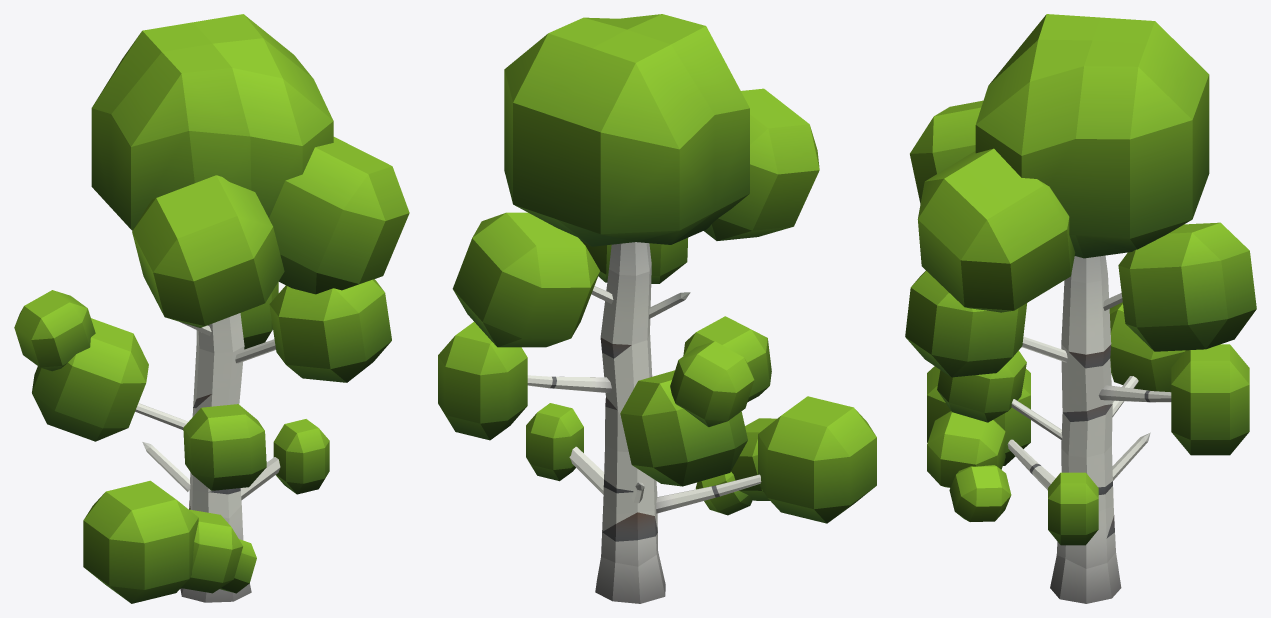
File: SilverBirchTreeSmall.fbx
The picture shows the model from 3 angles, left to right: view 1: azimuth 30°, elevation 25°; view 2: azimuth 150°, elevation 25°; view 3: azimuth 270°, elevation 25°; orthographic projection. The views are drawn at different scales.
Parts seen in each view (by area): view 1: SilverBirchTreeSmall; view 2: SilverBirchTreeSmall; view 3: SilverBirchTreeSmall.
Part boxes in pixels (bbox=[...]): SilverBirchTreeSmall: bbox=[14, 14, 409, 603]; SilverBirchTreeSmall: bbox=[438, 14, 876, 603]; SilverBirchTreeSmall: bbox=[905, 14, 1256, 603].
Bounding box in the file's own units: 238 × 397 × 231.
